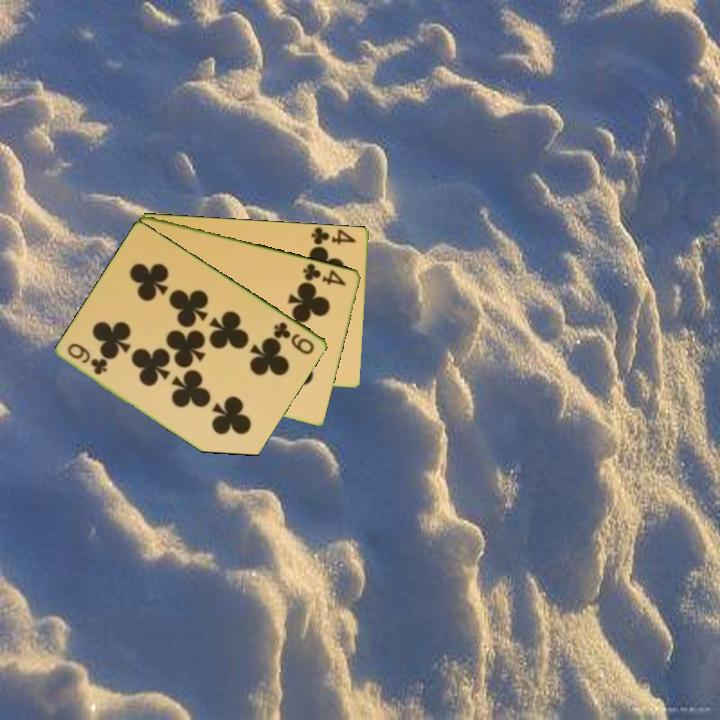4c: (299, 260, 349, 288), (308, 225, 359, 247)
9c: (270, 318, 318, 357), (64, 339, 111, 378)
